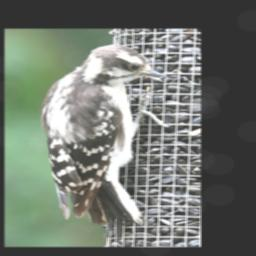Woodpecker: (41, 44, 171, 232)
